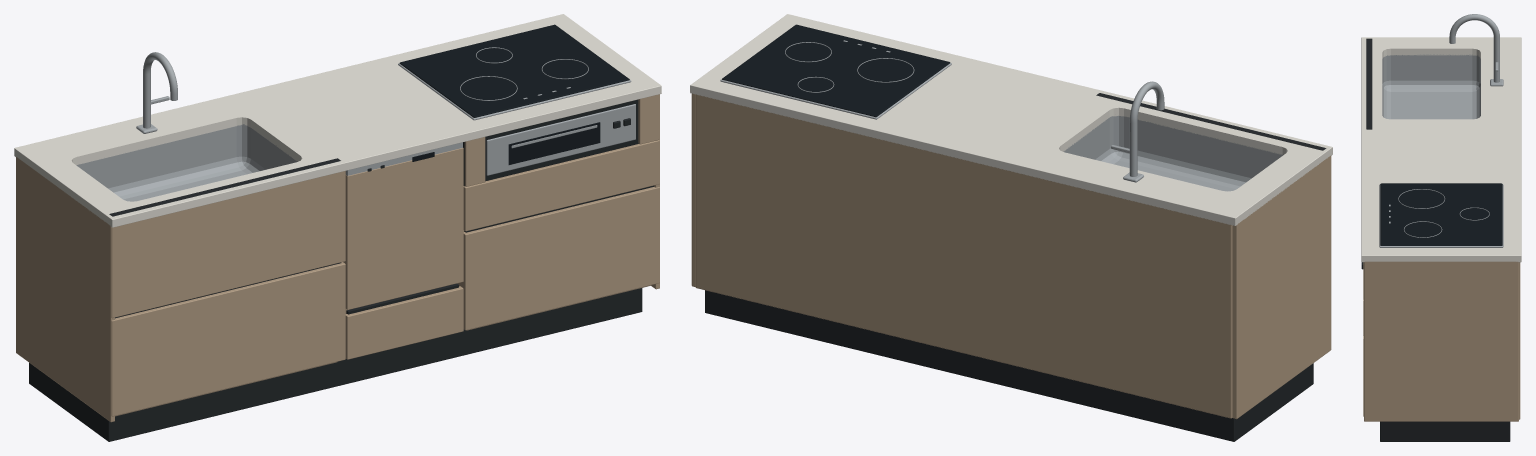
Rendered from original-kitchen-i2100-dw.glb.
3 views of the same model, side by side, from view 1: azimuth 30°, elevation 25°; view 2: azimuth 150°, elevation 25°; view 3: azimuth 270°, elevation 25° (orthographic). The views are drawn at different scales.
Visible parts, largest first — view 1: original-kitchen-i2100-dw; view 2: original-kitchen-i2100-dw; view 3: original-kitchen-i2100-dw.
Part boxes in pixels (x1,y1,x2,y2): original-kitchen-i2100-dw: (14,14,661,441); original-kitchen-i2100-dw: (690,14,1332,441); original-kitchen-i2100-dw: (1361,14,1521,441).
Size of the model in its own units: 2.1 by 1.16 by 0.65.
